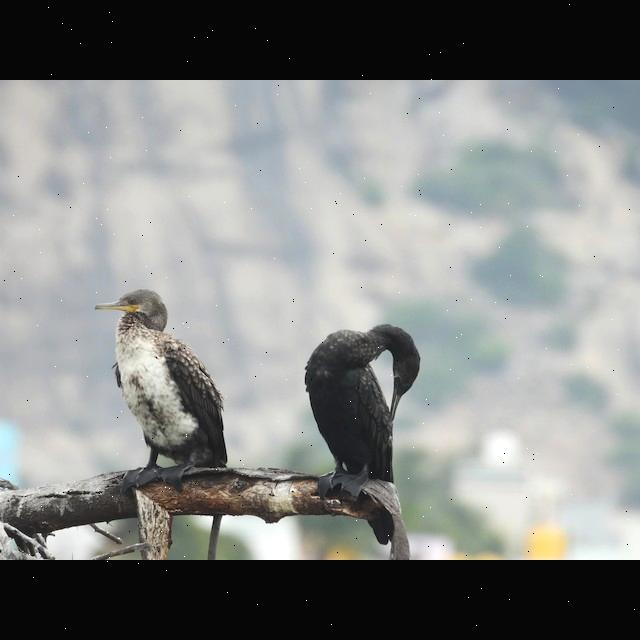cormorant: (89, 280, 237, 534), (304, 316, 431, 540)
